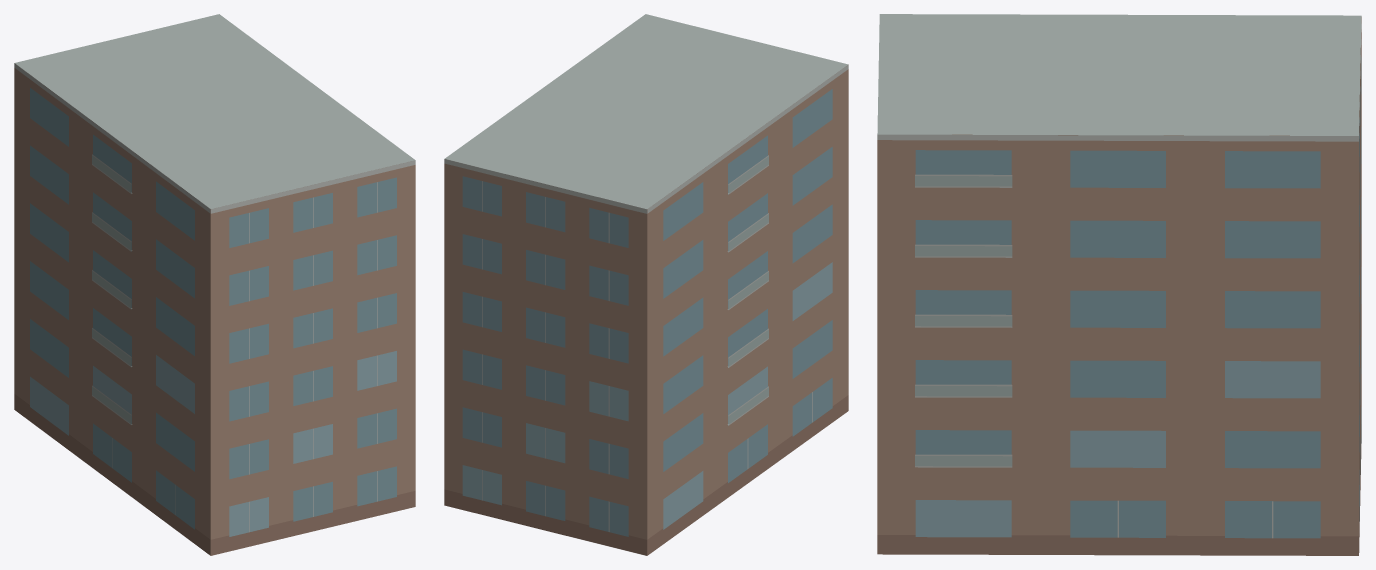
Rendered from survey-upis-32819595.glb.
3 renders of one model, left to right at view 1: azimuth 30°, elevation 25°; view 2: azimuth 150°, elevation 25°; view 3: azimuth 270°, elevation 25°, orthographic. The views are drawn at different scales.
Visible parts, largest first — view 1: survey-upis-32819595.tmp; view 2: survey-upis-32819595.tmp; view 3: survey-upis-32819595.tmp.
Part boxes in pixels (x1=…): survey-upis-32819595.tmp: x1=14, y1=14, x2=415, y2=555; survey-upis-32819595.tmp: x1=444, y1=14, x2=848, y2=555; survey-upis-32819595.tmp: x1=877, y1=14, x2=1361, y2=555.
Size of the model in its own units: 11.38 by 18.25 by 19.08.
